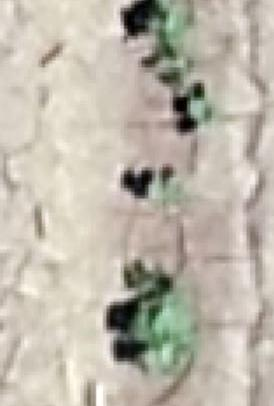cotton: (138, 304, 188, 348), (160, 3, 187, 37), (148, 176, 186, 200), (190, 103, 212, 125)
